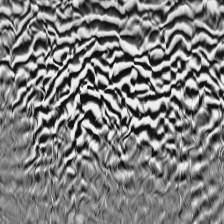cavities: (20, 0, 224, 172)
